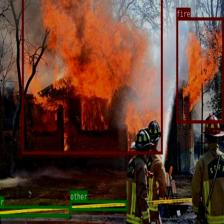fire: (22, 0, 162, 154), (176, 17, 224, 123)
